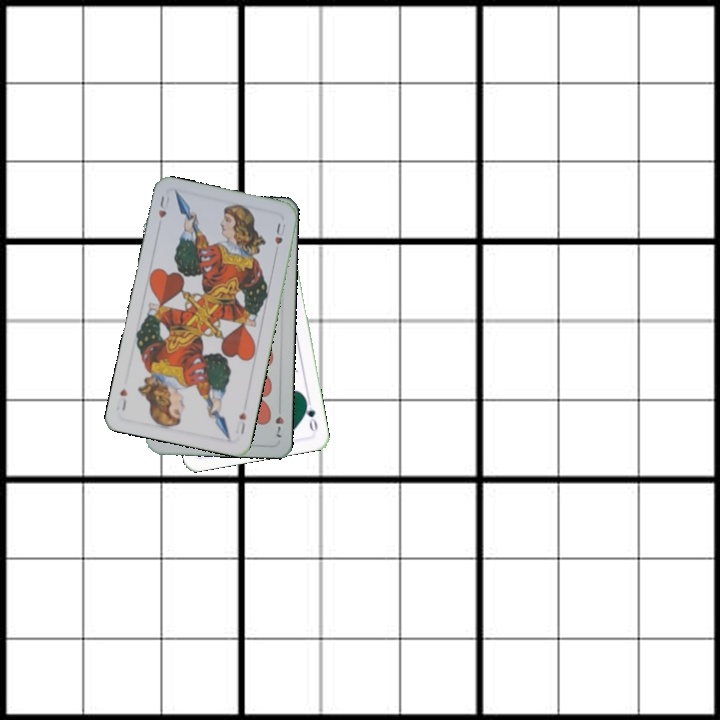GO: (300, 394, 320, 435)
H7: (271, 401, 287, 440)
HU: (154, 191, 172, 220), (232, 408, 249, 437)
